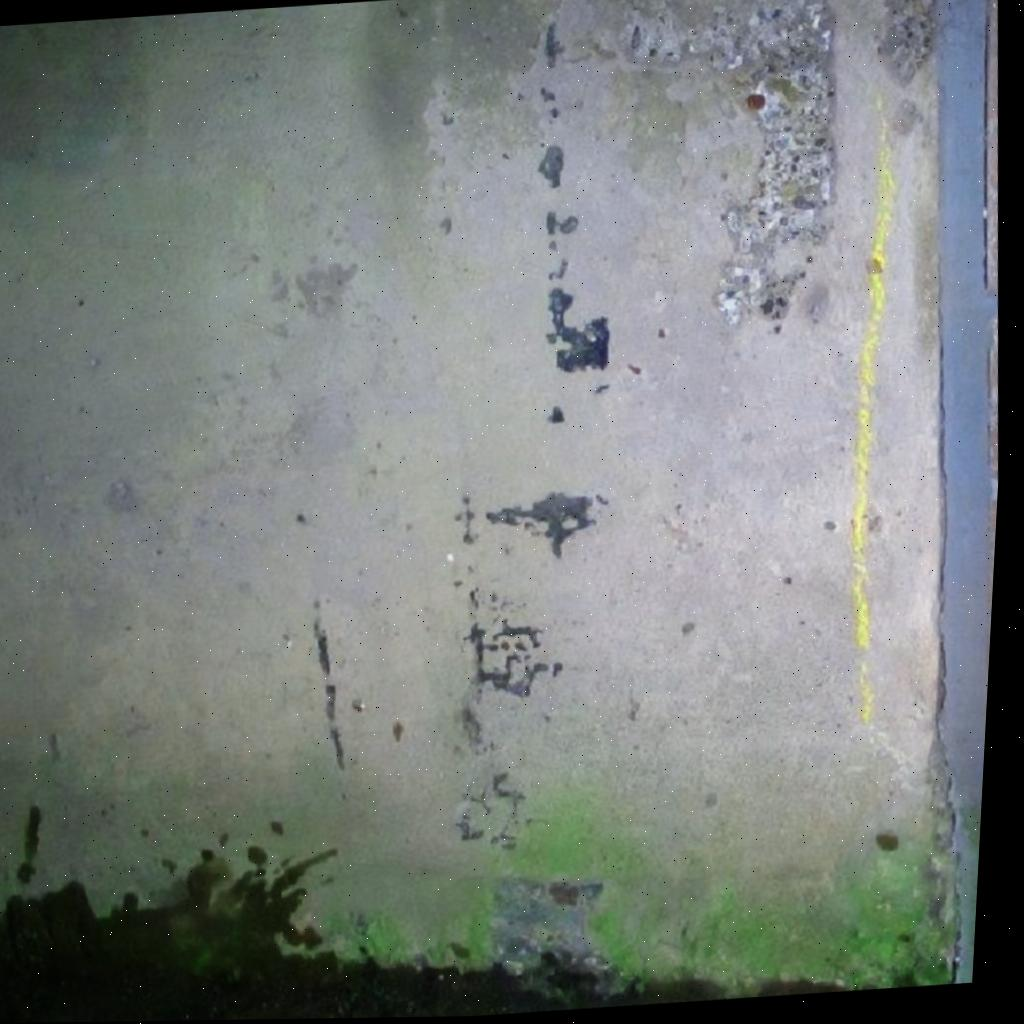spalling: (620, 0, 834, 324), (487, 492, 594, 555), (547, 286, 610, 372), (880, 0, 934, 81), (541, 146, 563, 186), (547, 212, 577, 236)
